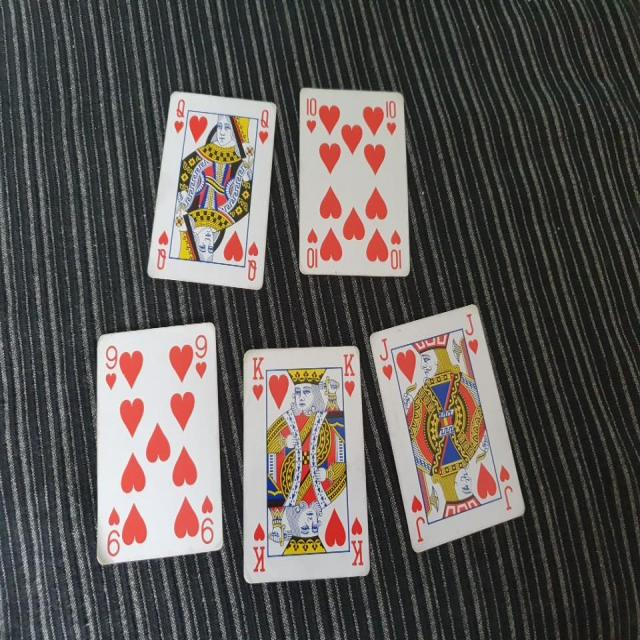10 Hearts: (284, 74, 421, 284)
9 Hearts: (84, 308, 229, 562)
J Hearts: (361, 295, 528, 560)
K Hearts: (238, 346, 381, 581)
Q Hearts: (152, 87, 281, 296)
